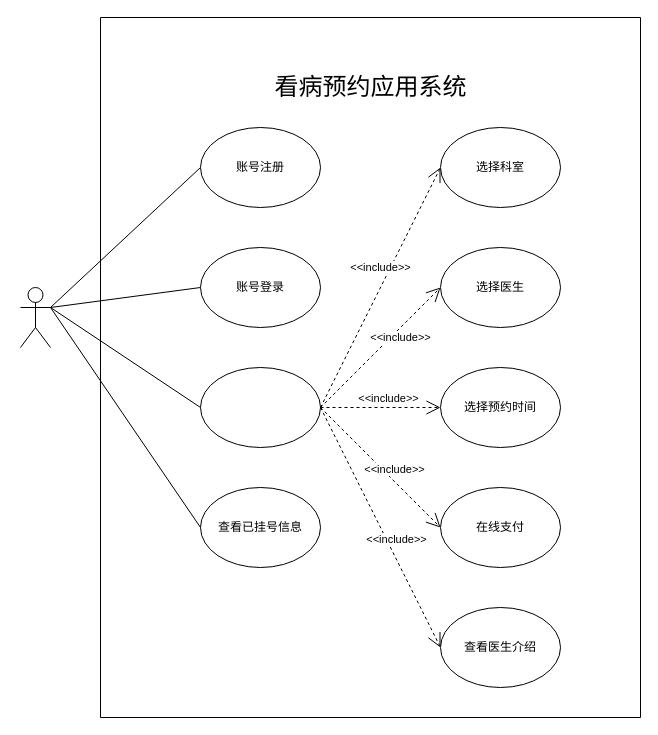
Some shapes in this 658 by 735 pixel diagram are drawn without their labels. The shapes that lost their labels are listed below. From the top down, each one's centre as x and y in pixels, then its label:
At (x=35, y=317): "patient".
At (x=260, y=407): "预约挂号".
